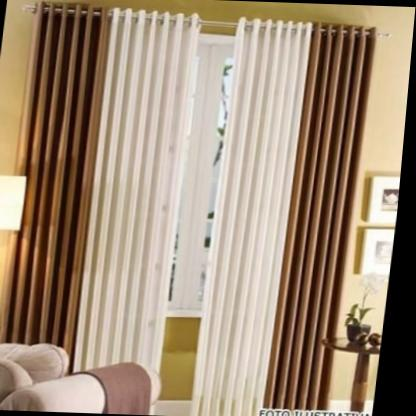Curtains: (10, 4, 202, 405), (197, 19, 377, 416)
